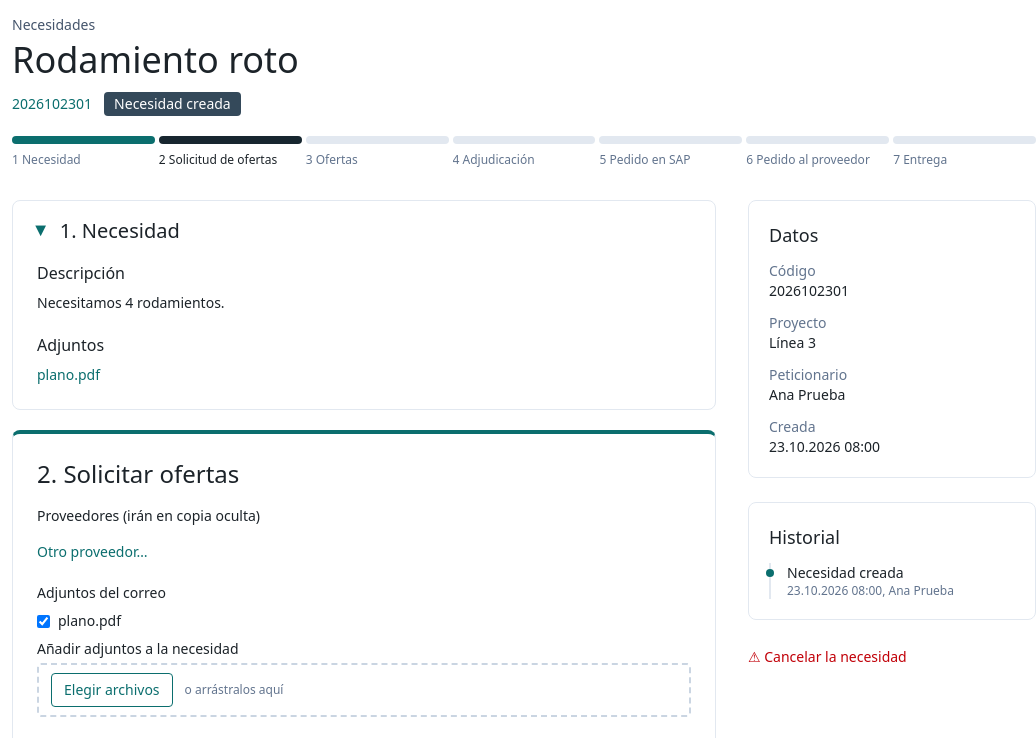
Scenario: PaginaNecesidad › «Otro proveedor»: cada error va junto a su campo
This screenshot has width=1036, height=738.
Click the button "Otro proveedor…".
click(92, 552)  # box [37,542,148,562]
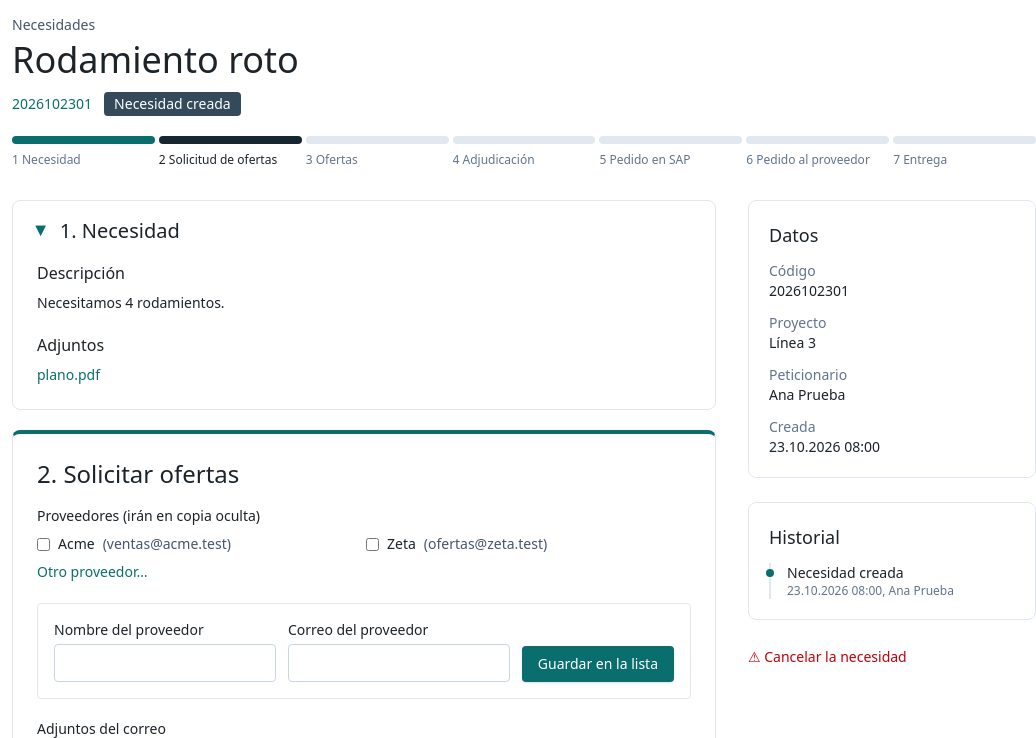
Click the button "Guardar en la lista".
click(598, 664)  # box [522,646,674,682]
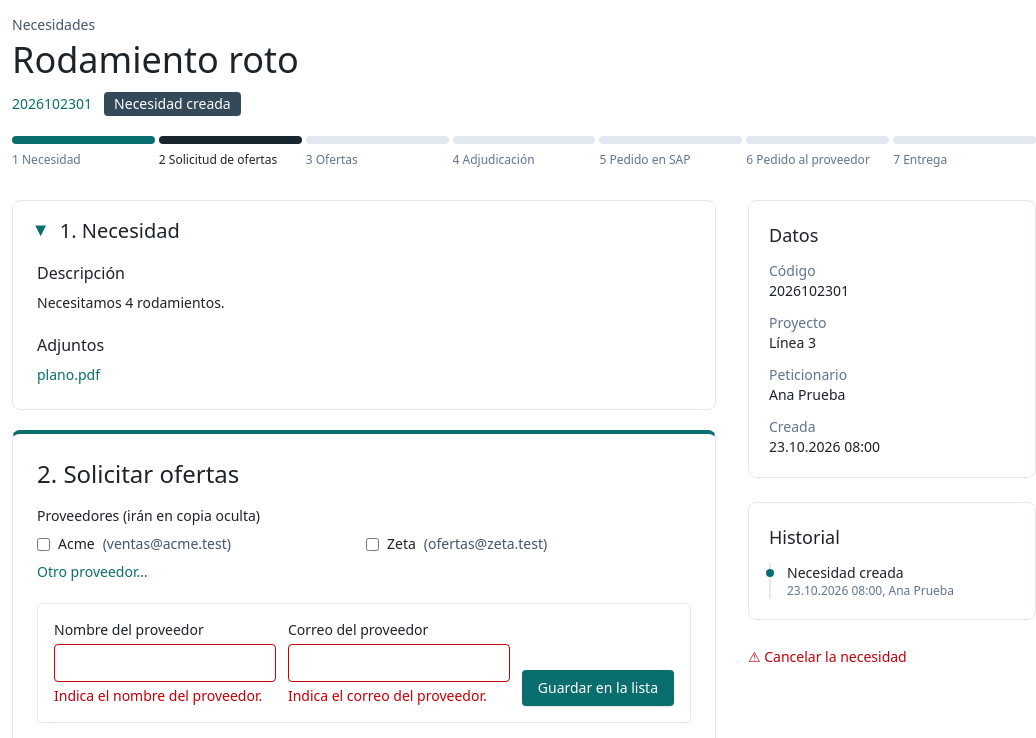
Type "Beta" into the field labelled "Nombre del proveedor".
click(165, 663); type("Beta")  # box [54,644,276,682]
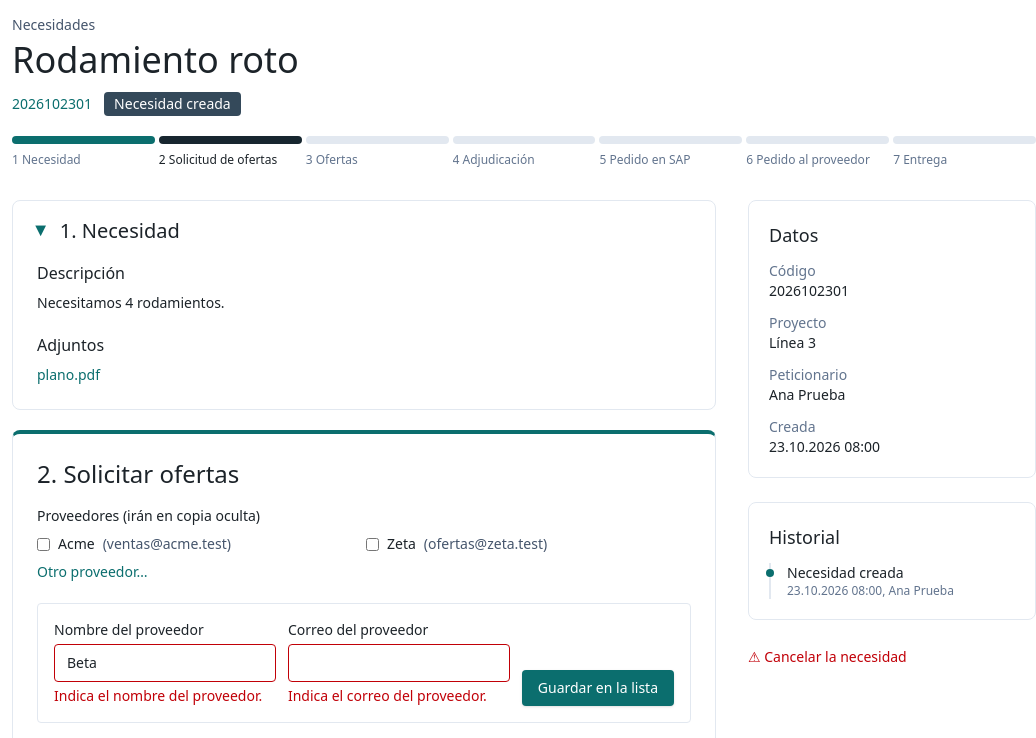
Type "x" into the field labelled "Correo del proveedor".
click(399, 663); type("x")  # box [288,644,510,682]
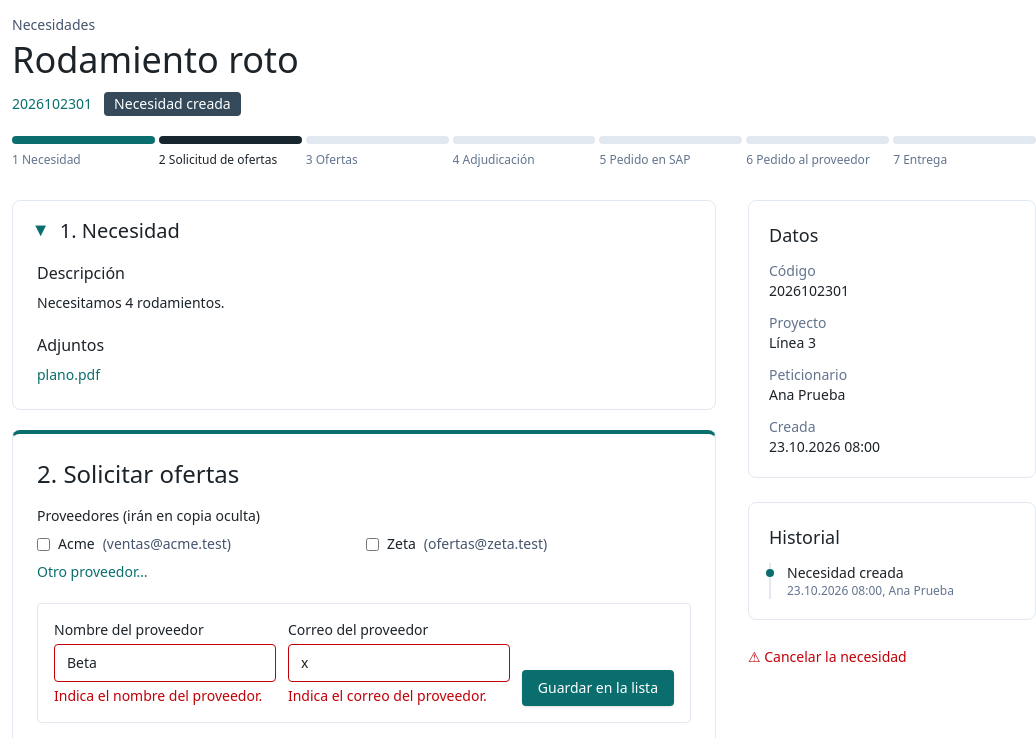
Click the button "Guardar en la lista".
click(598, 688)  # box [522,670,674,706]
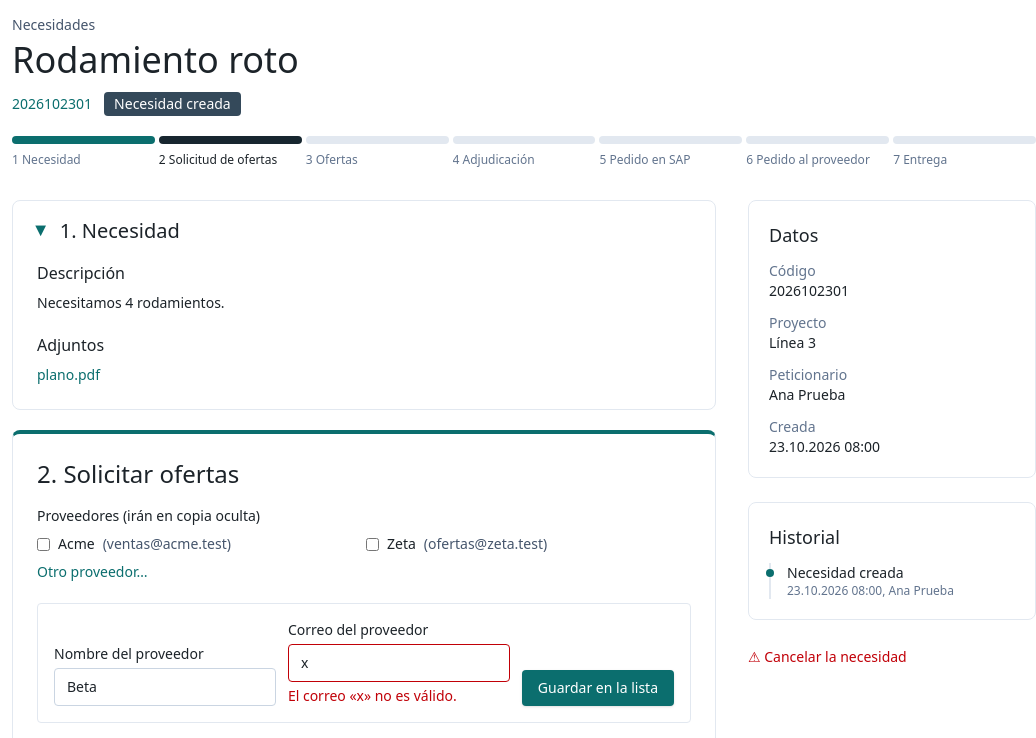
Expected: the text "El correo «x» no es válido." is shown, [288,686,457,705]
